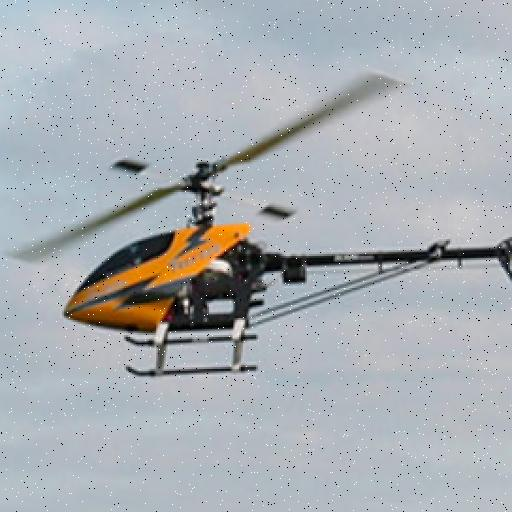helicopter: (8, 68, 512, 377)
